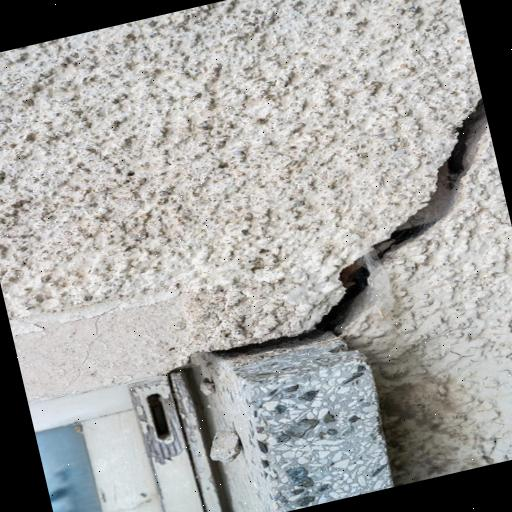spalling: (215, 91, 493, 361)
